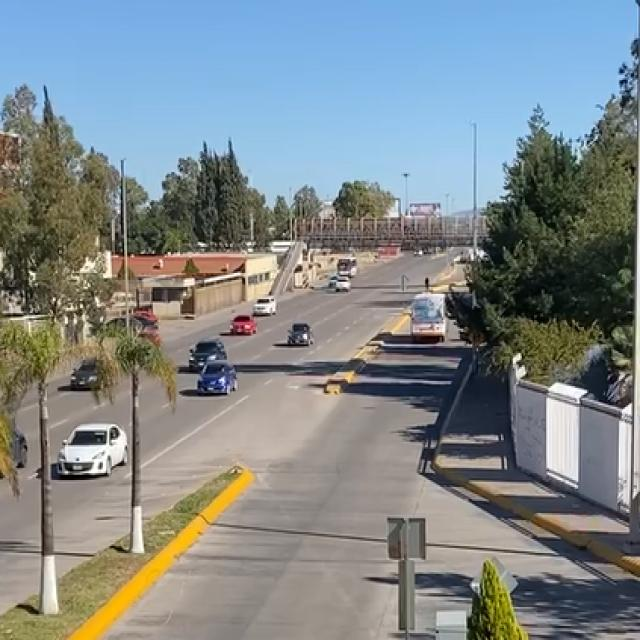Auto: (58, 426, 132, 479), (199, 362, 237, 398), (188, 338, 224, 372), (286, 322, 312, 346)
Autobus: (413, 293, 448, 340)
